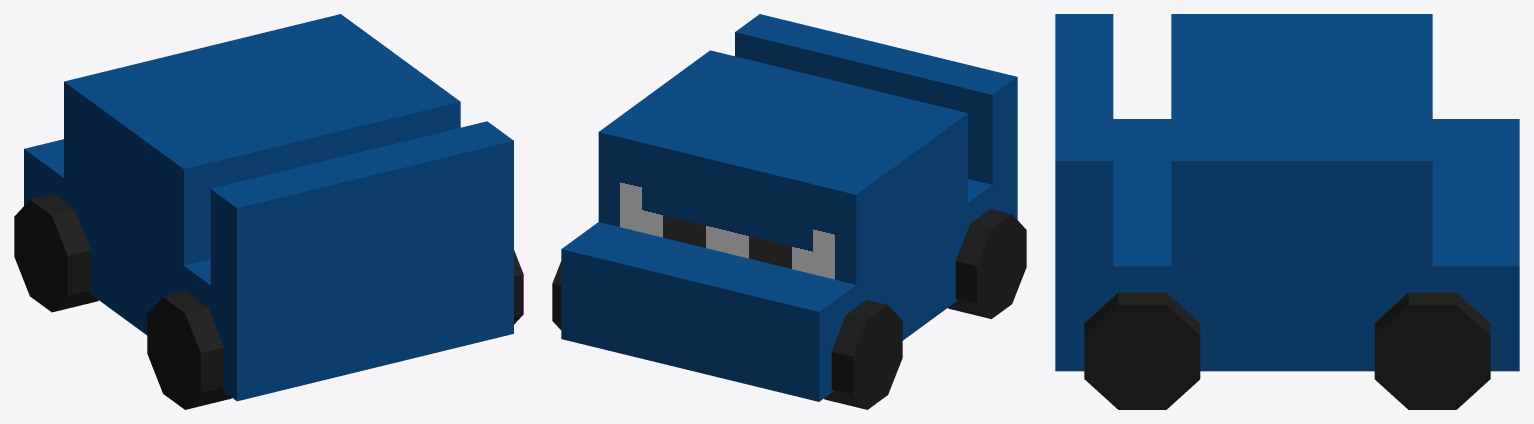
The model's file is storm.gltf.
3 renders of one model, left to right at view 1: azimuth 30°, elevation 25°; view 2: azimuth 150°, elevation 25°; view 3: azimuth 270°, elevation 25°, orthographic. The views are drawn at different scales.
Visible parts, largest first — view 1: cube (×3), cylinder (×3); view 2: cube (×3), cylinder (×3); view 3: cube (×3), cylinder (×2).
Part boxes in pixels (x1,y1,x2,y2): cube (×3): [24, 14, 513, 401]; cylinder (×3): [14, 194, 523, 409]; cube (×3): [561, 14, 1017, 401]; cylinder (×3): [552, 209, 1026, 409]; cube (×3): [1055, 14, 1519, 371]; cylinder (×2): [1084, 292, 1490, 409].
Size of the model in its own units: 0.875 by 0.5625 by 1.
1 material, 1 textured.
